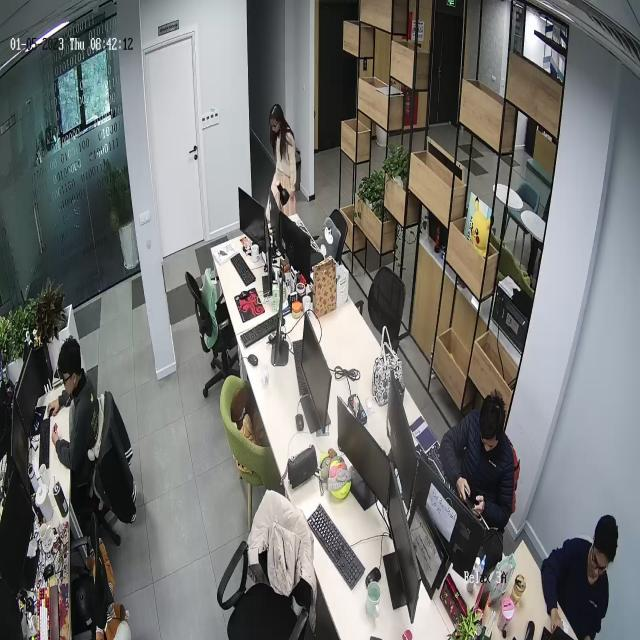person: (439, 391, 515, 533), (541, 514, 619, 640), (46, 337, 101, 495), (268, 103, 299, 223)
